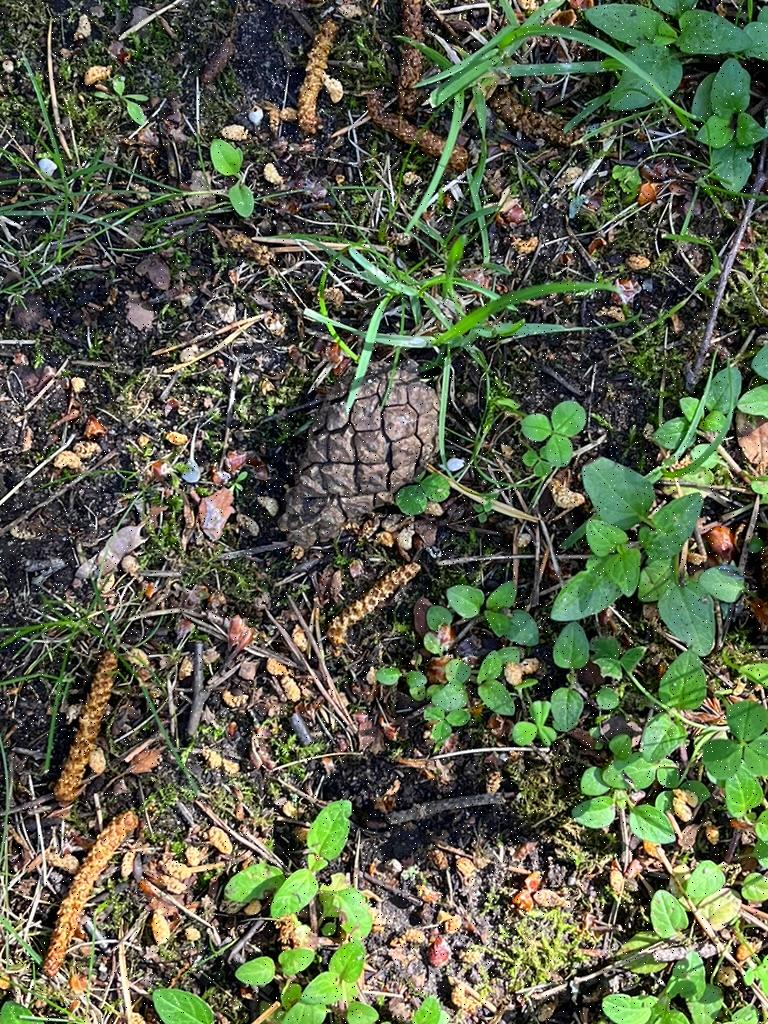pine: (271, 346, 454, 578)
